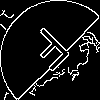F: (25, 25, 80, 79)
